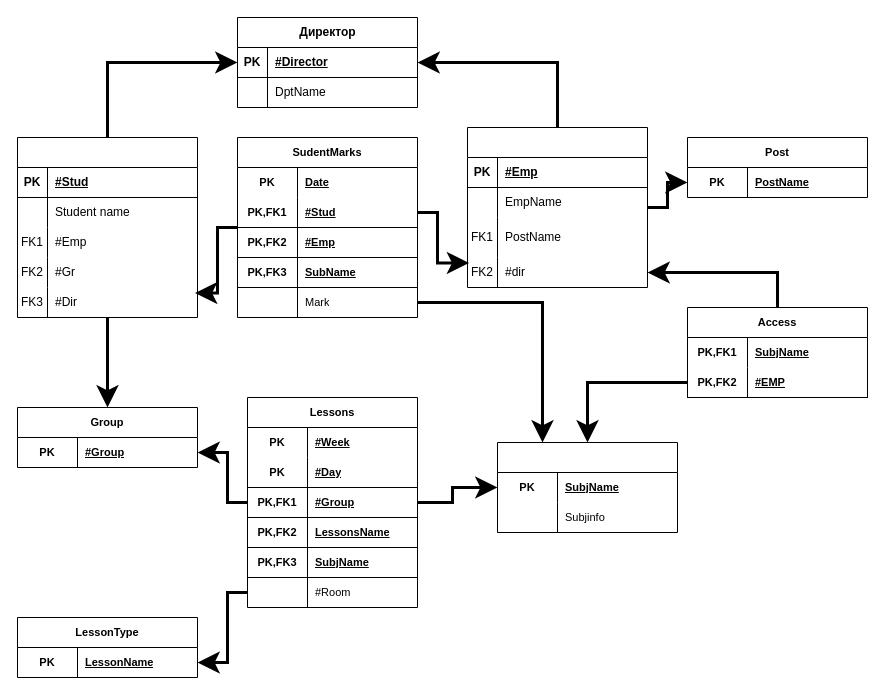
Some shapes in this 885 by 696 pixel diagram are drawn without their labels. Here are the shapes that lost their labels. From the top down, the box of each, then its label:
(16, 136, 198, 318): Студент
(466, 126, 648, 288): Empl
(496, 442, 678, 532): Subject
